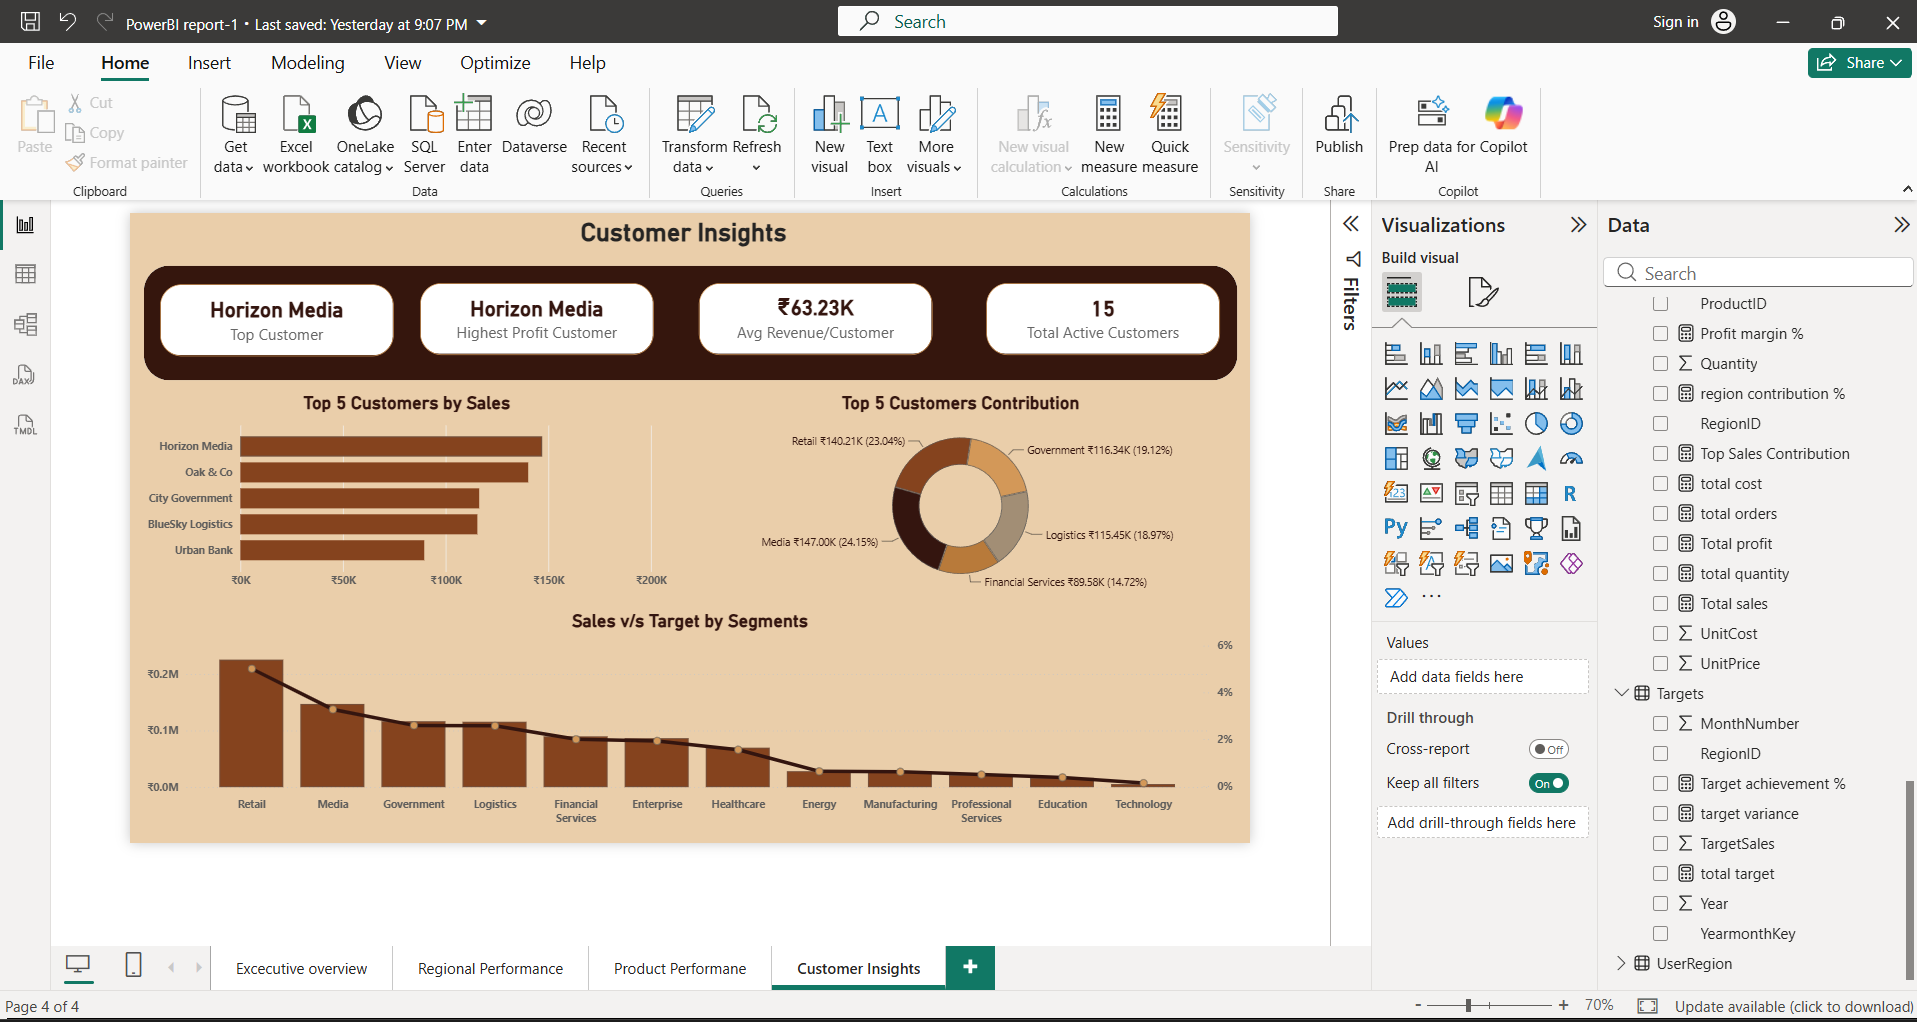

What the dashboard file says about the page in this screenshot:
{"tool":"powerbi","page":{"name":"Customer Insights","canvas":[1280,720],"ordinal":4},"visuals":[{"type":"textbox","box":[510.7,0,258.6,48.6],"z":0},{"type":"shape","box":[15.7,60,1250,131.4],"z":1000},{"type":"cardVisual","fields":{"Data":["Customers.Top Customer"]},"box":[14.3,61.4,307.1,122.9],"z":2000},{"type":"cardVisual","fields":{"Data":["Customers.Avg Revenue/Customer"]},"box":[641.4,60,307.1,122.9],"z":3000},{"type":"cardVisual","fields":{"Data":["Customers.Highest Profit Customer"]},"box":[322.9,61.4,307.1,122.9],"z":4000},{"type":"cardVisual","fields":{"Data":["Customers.Total Active Customers"]},"box":[958.6,60,307.1,122.9],"z":5000},{"type":"clusteredBarChart","title":"Top 5 Customers by Sales","fields":{"Category":["Customers.CustomerName"],"Y":["Sales.Total sales"]},"box":[14.3,204.3,604.3,234.3],"z":9000},{"type":"donutChart","title":"Top 5 Customers Contribution","fields":{"Category":["Customers.Segment"],"Y":["Sales.Total sales"]},"box":[618.6,204.3,661.4,234.3],"z":10000},{"type":"lineClusteredColumnComboChart","title":"Sales v/s Target by Segments","fields":{"Category":["Customers.Segment"],"Y":["Sales.Total sales"],"Y2":["Targets.Target achievement %"]},"box":[14.3,454.3,1251.4,252.9],"z":11000},{"type":"actionButton","box":[0,0,126,47.7],"z":12000}]}

Visuals, with their boxes on the page's 1280x720 design canvas (x1, y1, x2, y2). These are canvas units, not pixel positions in the 1917x1022 screenshot, which may show the page scaled, cropped or inside an application window:
textbox: pyautogui.locateOnScreen(511, 0, 769, 49)
shape: pyautogui.locateOnScreen(16, 60, 1266, 191)
cardVisual - Customers.Top Customer: pyautogui.locateOnScreen(14, 61, 321, 184)
cardVisual - Customers.Avg Revenue/Customer: pyautogui.locateOnScreen(641, 60, 948, 183)
cardVisual - Customers.Highest Profit Customer: pyautogui.locateOnScreen(323, 61, 630, 184)
cardVisual - Customers.Total Active Customers: pyautogui.locateOnScreen(959, 60, 1266, 183)
"Top 5 Customers by Sales" clusteredBarChart: pyautogui.locateOnScreen(14, 204, 619, 439)
"Top 5 Customers Contribution" donutChart: pyautogui.locateOnScreen(619, 204, 1280, 439)
"Sales v/s Target by Segments" lineClusteredColumnComboChart: pyautogui.locateOnScreen(14, 454, 1266, 707)
actionButton: pyautogui.locateOnScreen(0, 0, 126, 48)
